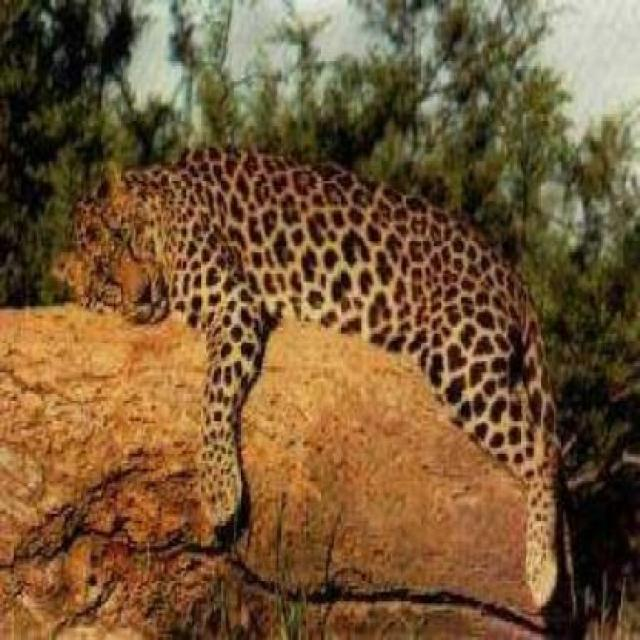Leopard: (45, 143, 597, 632)
